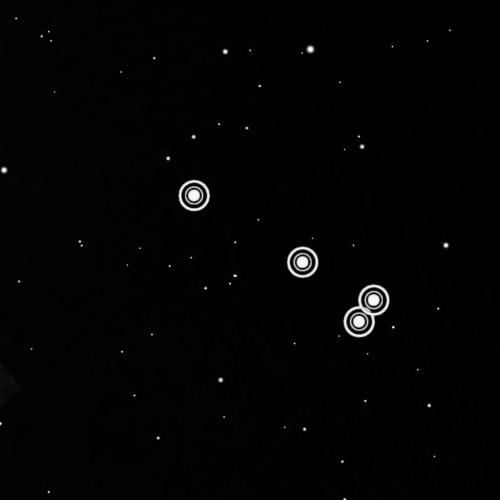sagitta: (172, 173, 393, 343)
